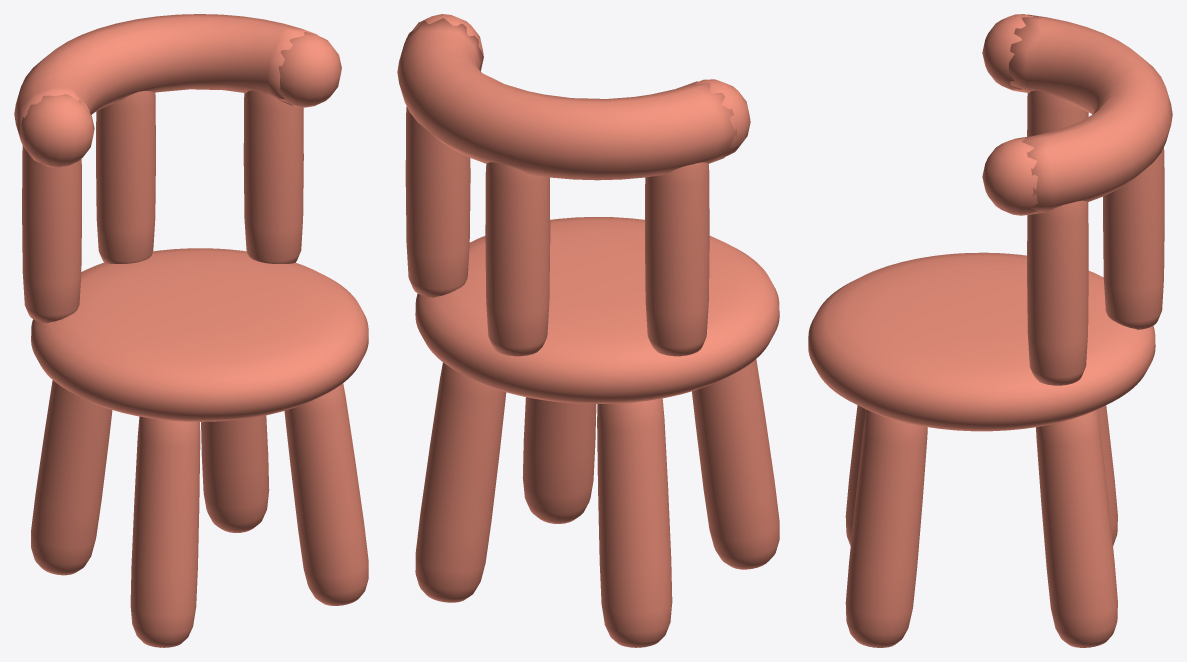
The model's file is chair_b.glb.
3 views of the same model, side by side, from view 1: azimuth 30°, elevation 25°; view 2: azimuth 150°, elevation 25°; view 3: azimuth 270°, elevation 25° (orthographic). The views are drawn at different scales.
Visible parts, largest first — view 1: body; view 2: body; view 3: body.
Part boxes in pixels (box(x1,y1,x2,y2)): body: box(14, 14, 368, 647); body: box(397, 14, 779, 647); body: box(808, 14, 1172, 647).
Size of the model in its own units: 0.5253 by 0.8118 by 0.5156.
